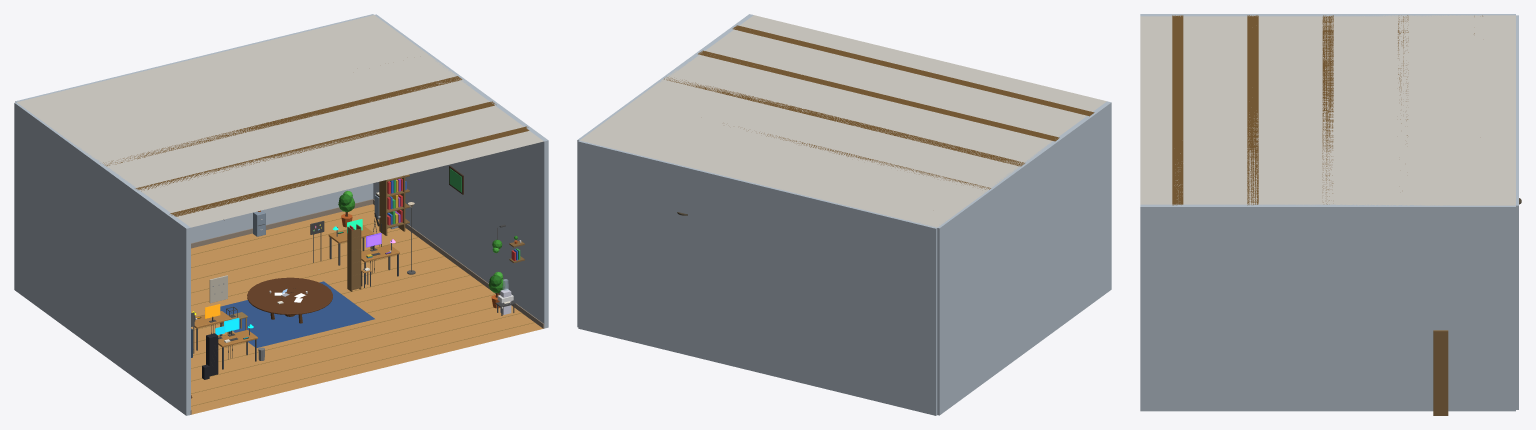
The model's file is office.glb.
The picture shows the model from 3 angles, left to right: view 1: azimuth 30°, elevation 25°; view 2: azimuth 150°, elevation 25°; view 3: azimuth 270°, elevation 25°; orthographic projection. The views are drawn at different scales.
Visible parts, largest first — view 1: Ceiling, LeftWall, Floor, RightWall, Rug, BackWall, RoundTable_Top, Beam_4, Beam_3, Beam_2, Baseboard_Back, Baseboard_Right (+3 smaller); view 2: BackWall, Ceiling, LeftWall, Beam_3, Beam_4, Beam_2, RightWall, Beam_1; view 3: RightWall, Ceiling, Beam_4, Beam_3, Beam_2, Bookshelf_Panel_2, BackWall, LeftWall.
Part boxes in pixels (<box>): Ceiling: <box>17,15,543,227</box>; LeftWall: <box>14,102,190,415</box>; Floor: <box>191,204,542,414</box>; RightWall: <box>373,14,548,328</box>; Rug: <box>220,281,374,347</box>; BackWall: <box>15,14,373,243</box>; RoundTable_Top: <box>247,277,332,314</box>; Beam_4: <box>169,126,529,216</box>; Beam_3: <box>135,101,496,191</box>; Beam_2: <box>103,76,462,166</box>; Baseboard_Back: <box>191,199,373,248</box>; Baseboard_Right: <box>373,199,544,328</box>; BackWall: <box>578,140,937,415</box>; Ceiling: <box>580,15,1106,227</box>; LeftWall: <box>937,101,1111,415</box>; Beam_3: <box>698,50,1059,141</box>; Beam_4: <box>732,25,1094,116</box>; Beam_2: <box>664,77,1024,166</box>; RightWall: <box>577,14,753,327</box>; Beam_1: <box>744,128,990,189</box>; RightWall: <box>1140,204,1515,411</box>; Ceiling: <box>1140,15,1515,205</box>; Beam_4: <box>1172,15,1183,205</box>; Beam_3: <box>1247,15,1258,205</box>; Beam_2: <box>1322,15,1333,204</box>; Bookshelf_Panel_2: <box>1433,330,1448,415</box>; BackWall: <box>1516,15,1518,409</box>; LeftWall: <box>1140,14,1515,16</box>.
Bounding box in the file's own units: 24.9 × 12.08 × 20.3.
